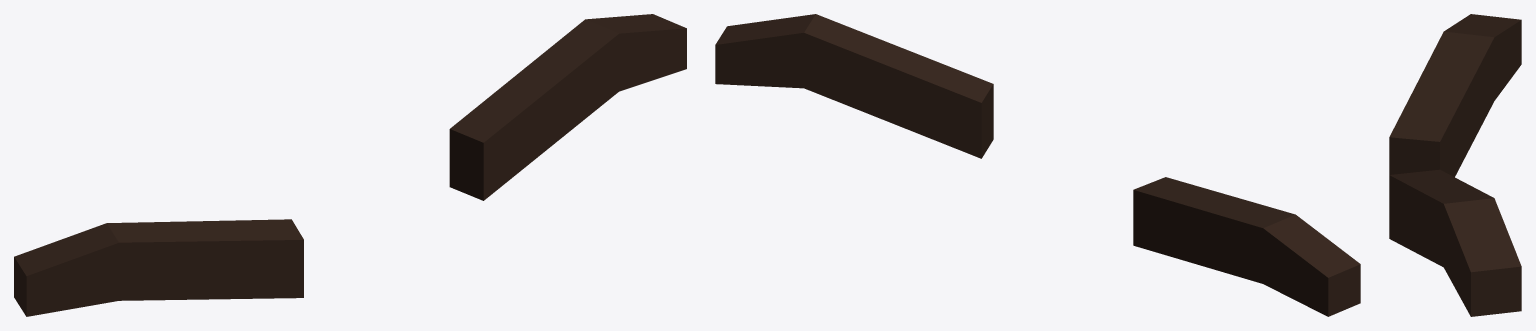
The model's file is DoubtEyebrowsM.glb.
3 renders of one model, left to right at view 1: azimuth 30°, elevation 25°; view 2: azimuth 150°, elevation 25°; view 3: azimuth 270°, elevation 25°, orthographic. The views are drawn at different scales.
Parts seen in each view (by area): view 1: DoubtEyebrowsM.001; view 2: DoubtEyebrowsM.001; view 3: DoubtEyebrowsM.001.
Boxes of the visible parts, <box> form: DoubtEyebrowsM.001: <box>14,14,686,316</box>; DoubtEyebrowsM.001: <box>715,14,1360,316</box>; DoubtEyebrowsM.001: <box>1389,14,1521,316</box>.
Size of the model in its own units: 1.59 by 0.3762 by 0.2519.
